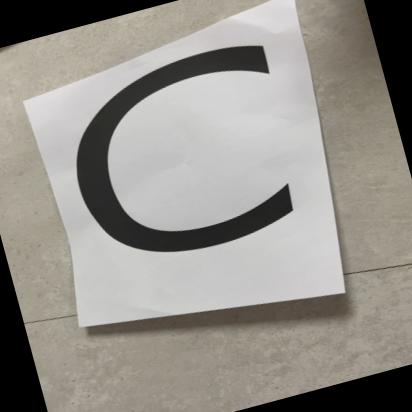seat: (21, 8, 340, 329)
